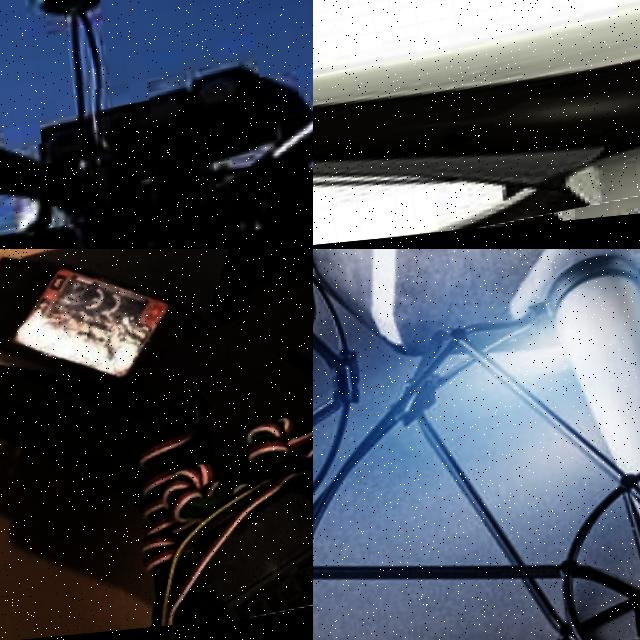drone: (313, 249, 640, 640), (0, 249, 313, 640), (313, 0, 640, 249), (0, 0, 313, 249)
